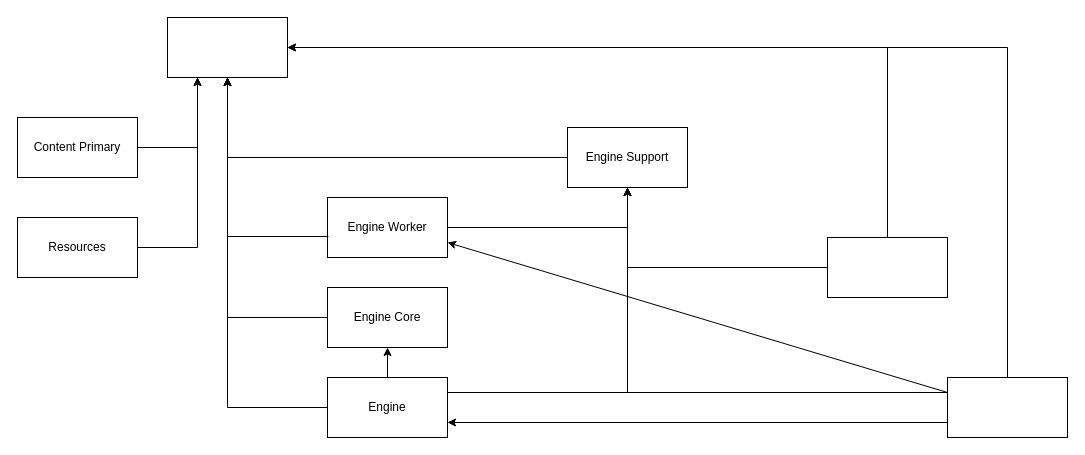
Some shapes in this 1085 by 455 pixel diagram are drawn without their labels. Here are the shapes that lost their labels. From the top down, the centre of each, then its label:
pixel 227 47: Operations
pixel 887 267: Backend
pixel 1007 407: Frontend
